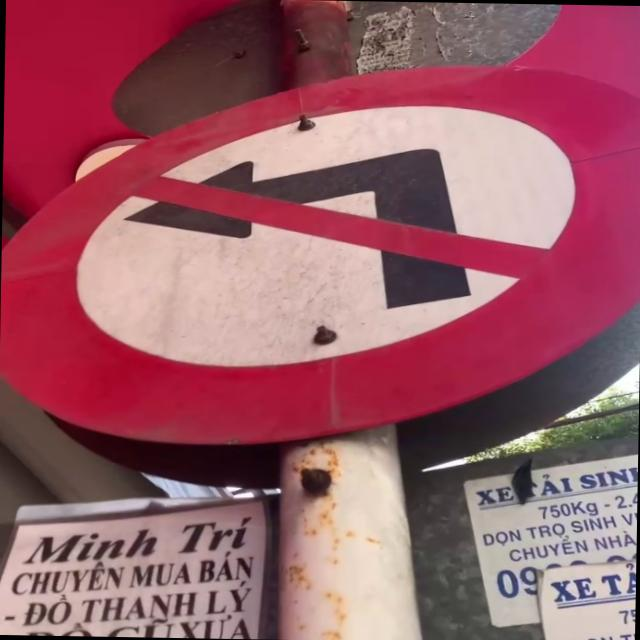Cam_Re_Trai: (0, 51, 640, 463)
